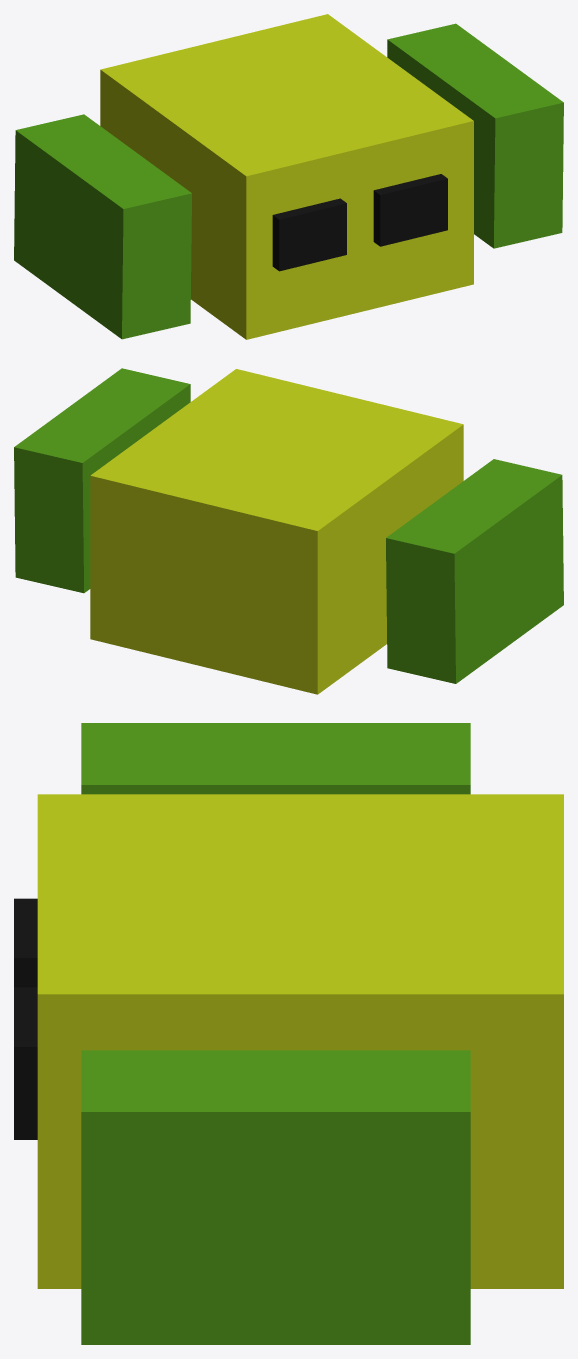
Rendered from Boss2.fbx.
3 views of the same model, one above another, from view 1: azimuth 30°, elevation 25°; view 2: azimuth 150°, elevation 25°; view 3: azimuth 270°, elevation 25° (orthographic). The views are drawn at different scales.
Parts seen in each view (by area): view 1: Box001, Box002, Box003, w001, w; view 2: Box001, Box002, Box003; view 3: Box001, Box003, Box002, w001, w.
Part boxes in pixels (x1,y1,x2,y2): Box001: [100, 14, 473, 339]; Box002: [14, 114, 191, 339]; Box003: [387, 23, 563, 248]; w001: [373, 174, 447, 246]; w: [272, 198, 346, 271]; Box001: [90, 369, 463, 694]; Box002: [386, 459, 563, 683]; Box003: [14, 368, 190, 593]; Box001: [37, 794, 563, 1288]; Box003: [81, 1050, 470, 1344]; Box002: [81, 723, 470, 794]; w001: [14, 987, 37, 1139]; w: [14, 898, 37, 987].
Bounding box in the file's own units: 137 × 48.6 × 82.18.
